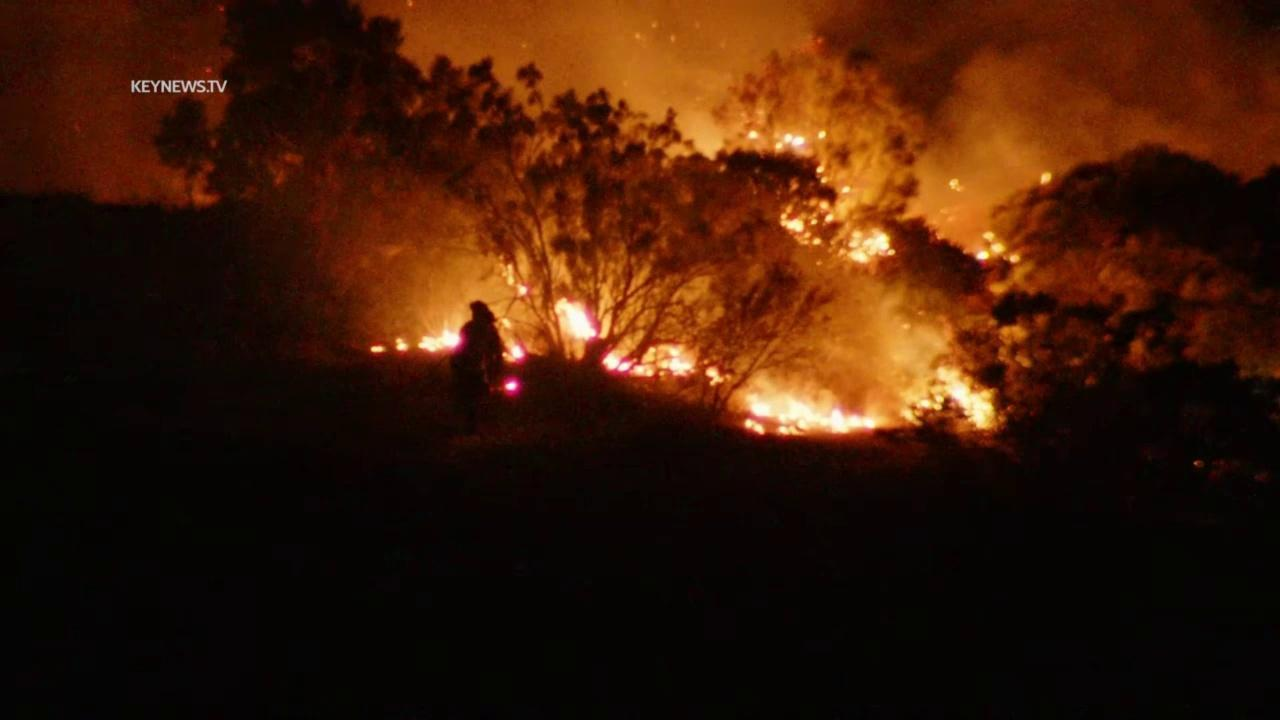fire: (743, 387, 878, 441), (900, 362, 1001, 430), (780, 196, 834, 247), (839, 221, 900, 263), (554, 292, 598, 342), (975, 230, 1023, 265), (495, 254, 530, 296), (659, 343, 694, 377), (418, 329, 461, 356), (599, 347, 635, 374), (703, 362, 733, 387), (774, 130, 806, 151), (499, 374, 522, 396), (507, 343, 527, 361), (392, 333, 408, 353), (1037, 168, 1053, 186), (367, 342, 387, 355), (501, 316, 513, 329)
smoke: (0, 0, 1280, 450)
